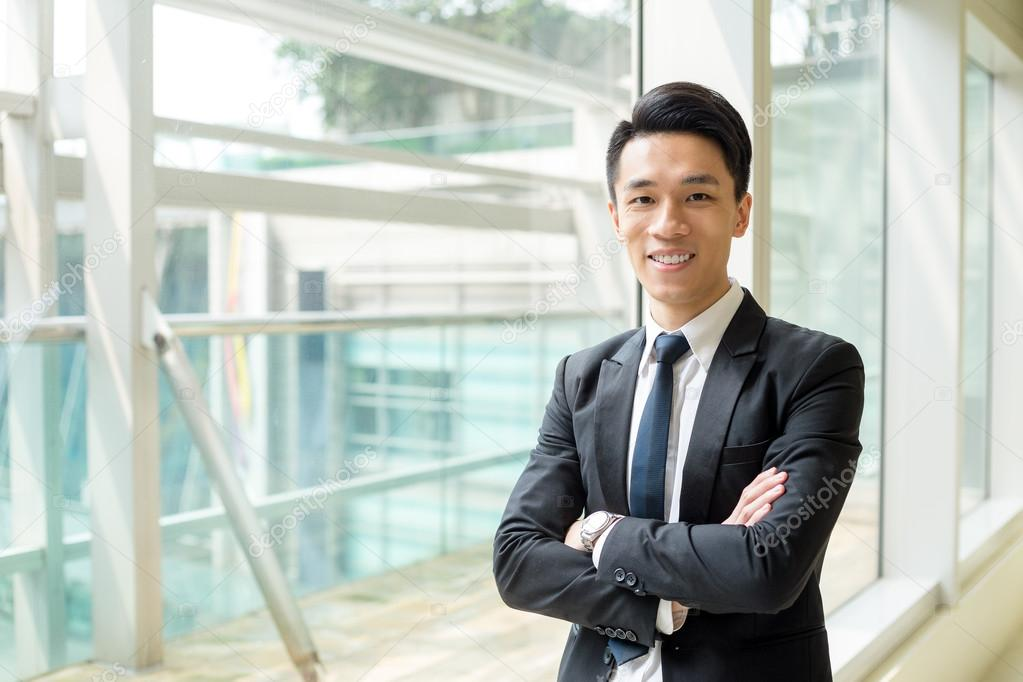bare: (622, 218, 739, 298)
